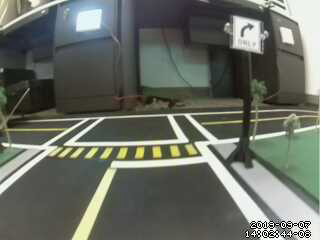Right_only_sign: (233, 16, 265, 53)
